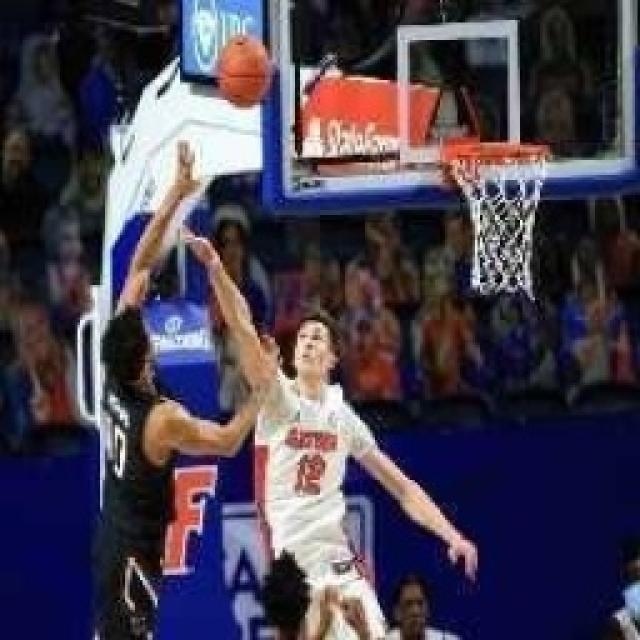rim: (215, 30, 272, 109)
